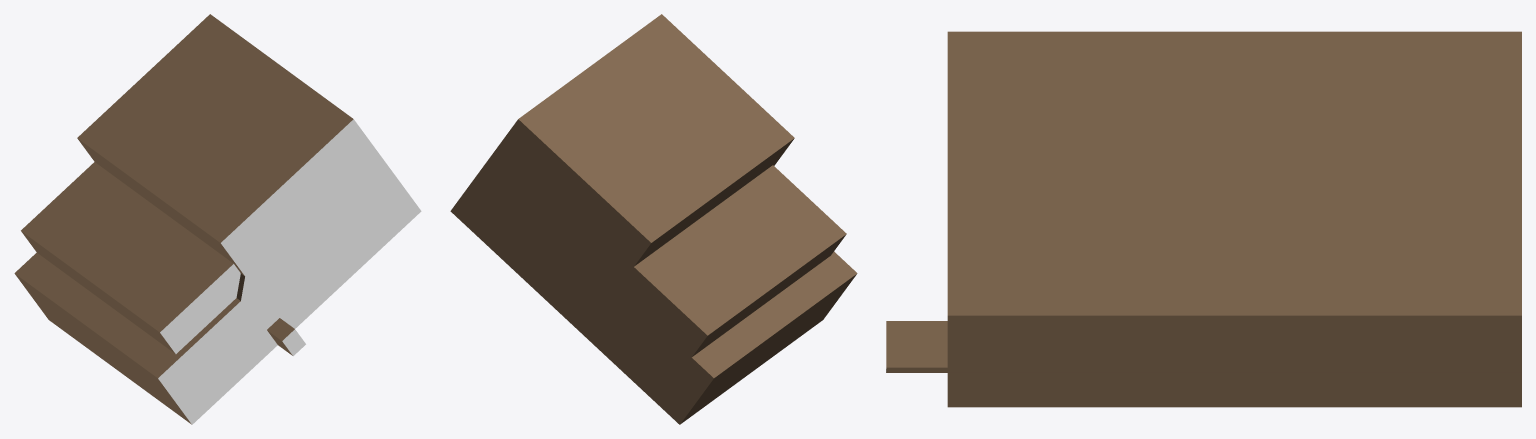
The picture shows the model from 3 angles, left to right: view 1: azimuth 30°, elevation 25°; view 2: azimuth 150°, elevation 25°; view 3: azimuth 270°, elevation 25°; orthographic projection. The views are drawn at different scales.
Parts seen in each view (by area): view 1: City_1885500; view 2: City_1885500; view 3: City_1885500.
Part boxes in pixels (x1,y1,x2,y2): City_1885500: (14,14,421,424); City_1885500: (450,14,857,424); City_1885500: (886,31,1521,407).
Bounding box in the file's own units: 1406 × 1358 × 1468.
